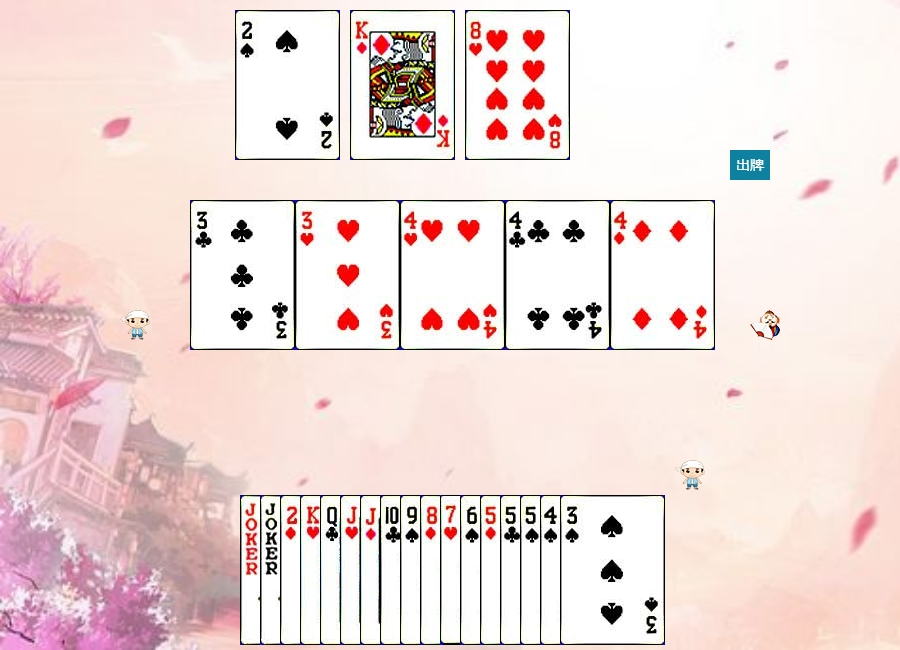10~2: (380, 495, 485, 645)
11~1: (360, 495, 465, 645)
11~3: (340, 495, 445, 645)
12~2: (320, 495, 425, 645)
13~1: (350, 10, 455, 160)
13~3: (300, 495, 405, 645)
15~1: (280, 495, 385, 645)
15~4: (235, 10, 340, 160)
17~3: (260, 495, 365, 645)
18~4: (240, 495, 345, 645)
3~2: (190, 200, 295, 350)
3~3: (295, 200, 400, 350)
3~4: (560, 495, 665, 645)
4~1: (610, 200, 715, 350)
4~2: (505, 200, 610, 350)
4~3: (400, 200, 505, 350)
4~4: (540, 495, 645, 645)
5~1: (480, 495, 585, 645)
5~2: (500, 495, 605, 645)
5~4: (520, 495, 625, 645)
6~4: (460, 495, 565, 645)
7~3: (440, 495, 545, 645)
8~1: (420, 495, 525, 645)
8~3: (465, 10, 570, 160)
9~4: (400, 495, 505, 645)
